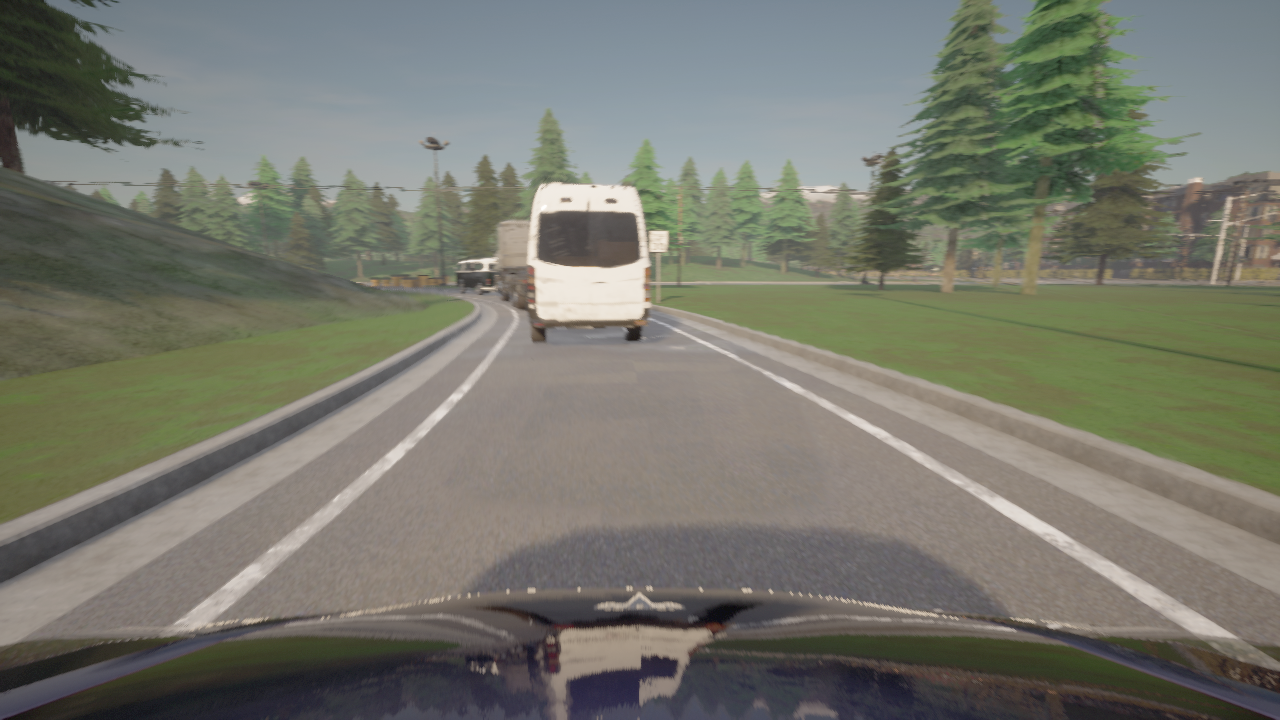cyclist: (0, 588, 1279, 719), (527, 183, 650, 342), (488, 220, 530, 309), (454, 258, 496, 295)
